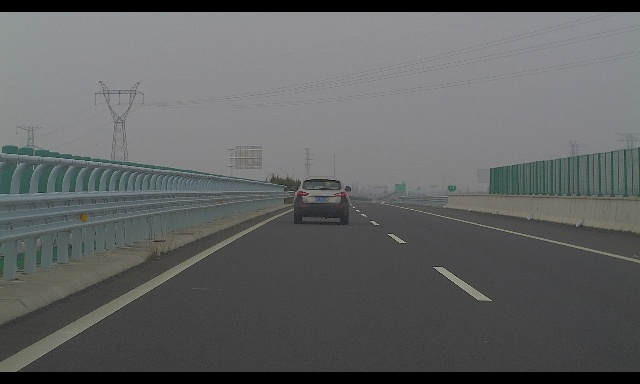car: (292, 174, 351, 225)
